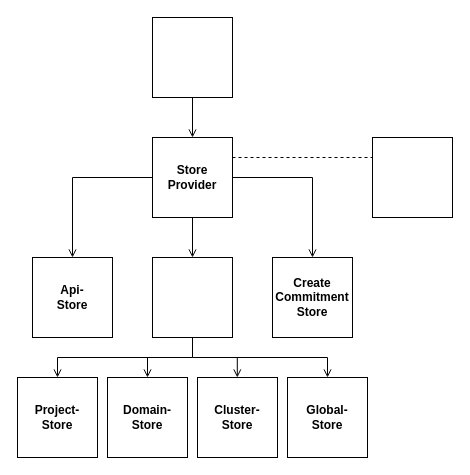
The diagram is 470 pixels wide and 475 high, and some of its shapes have lost their labels. The centre of each missing label's shape, as x and y in pixels:
"App" goes at (192,57).
"Create- Store" goes at (412,177).
"Limes- Store" goes at (192,297).
